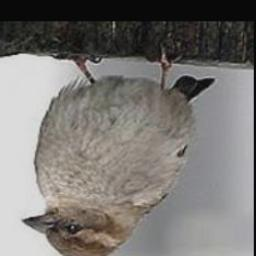Sparrow: (22, 44, 217, 256)
